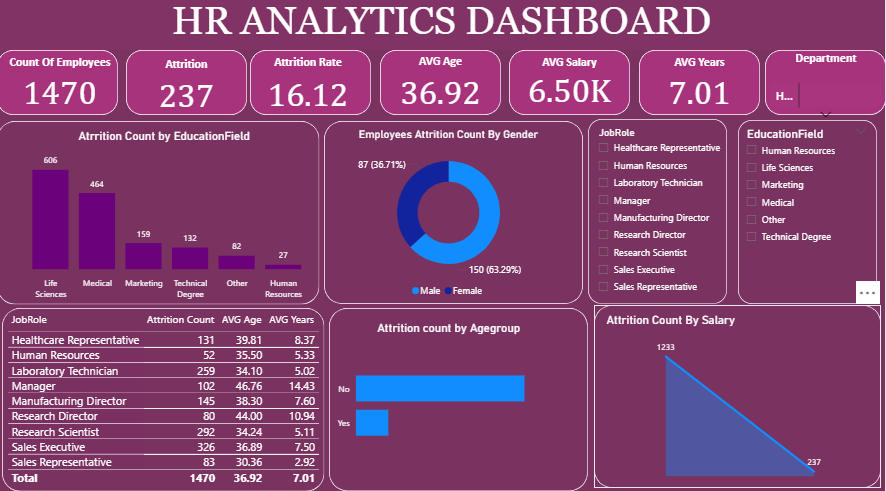

What the dashboard file says about the page in this screenshot:
{"tool":"powerbi","page":{"name":"Page 1","canvas":[1280,720],"ordinal":0},"visuals":[{"type":"textbox","box":[0,0,1280.2,79.2],"z":0},{"type":"shape","box":[0,79.2,174.2,93.6],"z":1000},{"type":"card","title":"Count Of Employees","fields":{"Values":["CountNonNull(HR-Employee-Attrition.EmployeeCount)"]},"box":[10.1,85,161.3,82.1],"z":2000},{"type":"shape","box":[185.8,79.2,174.2,93.6],"z":3000},{"type":"shape","box":[364.3,79.2,174.2,93.6],"z":4000},{"type":"shape","box":[551.5,79.2,174.2,93.6],"z":5000},{"type":"shape","box":[737.3,79.2,174.2,93.6],"z":6000},{"type":"shape","box":[924.5,79.2,174.2,93.6],"z":7000},{"type":"shape","box":[1105.9,79.2,174.2,93.6],"z":8000},{"type":"card","title":"Attrition Rate","fields":{"Values":["HR-Employee-Attrition.Attrition Rate"]},"box":[360,85,175.7,87.8],"z":9000},{"type":"card","title":"Attrition","fields":{"Values":["HR-Employee-Attrition.Attritionn"]},"box":[185.8,87.8,174.2,85],"z":10000},{"type":"card","title":"AVG Age","fields":{"Values":["Avg(HR-Employee-Attrition.Age)"]},"box":[557.3,83.5,162.7,85],"z":11000},{"type":"card","title":"AVG Salary","fields":{"Values":["Avg(HR-Employee-Attrition.MonthlyIncome)"]},"box":[737.3,85,174.2,74.9],"z":12000},{"type":"card","title":"AVG Years","fields":{"Values":["Avg(HR-Employee-Attrition.YearsAtCompany)"]},"box":[933.1,85,157,82.1],"z":13000},{"type":"cardVisual","title":"Department","fields":{"Rows":["HR-Employee-Attrition.Department"]},"box":[1107.4,79.2,172.8,108],"z":14000},{"type":"columnChart","title":"Atrrition Count by EducationField","fields":{"Category":["HR-Employee-Attrition.EducationField"],"Y":["CountNonNull(HR-Employee-Attrition.Education)"]},"box":[10,192.9,461.4,252.9],"z":15000},{"type":"shape","box":[0,181.4,464.3,264.3],"z":16000},{"type":"shape","box":[470.9,181.4,373,263.5],"z":17000},{"type":"shape","box":[7.1,451.4,464.3,264.3],"z":18000},{"type":"donutChart","title":"Employees Attrition Count By Gender","fields":{"Y":["HR-Employee-Attrition.Attritionn"],"Category":["HR-Employee-Attrition.Gender"]},"box":[464.3,191.4,372.9,252.9],"z":19000},{"type":"tableEx","fields":{"Values":["HR-Employee-Attrition.JobRole","Sum(HR-Employee-Attrition.EmployeeCount)","Avg(HR-Employee-Attrition.Age)","Avg(HR-Employee-Attrition.YearsAtCompany)"]},"box":[10.1,450.7,468,269.3],"z":20000},{"type":"shape","box":[478.8,450,372.7,263.6],"z":21000},{"type":"clusteredBarChart","title":"Attrition count by Agegroup","fields":{"Y":["CountNonNull(HR-Employee-Attrition.Age)"],"Category":["HR-Employee-Attrition.Attrition"]},"box":[483.3,469.7,333.3,216.7],"z":22000},{"type":"shape","box":[851,178.6,200.2,266.4],"z":23000},{"type":"slicer","fields":{"Values":["HR-Employee-Attrition.JobRole"]},"box":[854.5,184.8,197,274.2],"z":24000},{"type":"shape","box":[1067,180,200.2,265],"z":25000},{"type":"slicer","fields":{"Values":["HR-Employee-Attrition.EducationField"]},"box":[1066.7,184.8,197,251.5],"z":26000},{"type":"shape","box":[859.7,446.4,413.3,263.5],"z":26001},{"type":"lineChart","title":"Attrition Count By Salary","fields":{"Y":["CountNonNull(HR-Employee-Attrition.PercentSalaryHike)"],"Category":["HR-Employee-Attrition.Attrition"]},"box":[872.6,457.9,394.6,240.5],"z":26002}]}

Visuals, with their boxes in screenshot pixels (x1, y1, x2, y2), scaled from the page's 1280x720 canvas onto the 886x491 screenshot:
textbox: 0/0/885/54
shape: 0/54/121/118
"Count Of Employees" card: 7/58/119/114
shape: 129/54/249/118
shape: 252/54/373/118
shape: 382/54/502/118
shape: 510/54/631/118
shape: 640/54/761/118
shape: 765/54/885/118
"Attrition Rate" card: 249/58/371/118
"Attrition" card: 129/60/249/118
"AVG Age" card: 386/57/498/115
"AVG Salary" card: 510/58/631/109
"AVG Years" card: 646/58/755/114
"Department" cardVisual: 767/54/885/128
"Atrrition Count by EducationField" columnChart: 7/132/326/304
shape: 0/124/321/304
shape: 326/124/584/303
shape: 5/308/326/488
"Employees Attrition Count By Gender" donutChart: 321/131/579/303
tableEx - HR-Employee-Attrition.JobRole x Sum(HR-Employee-Attrition.EmployeeCount): 7/307/331/490
shape: 331/307/589/487
"Attrition count by Agegroup" clusteredBarChart: 335/320/565/468
shape: 589/122/728/303
slicer - HR-Employee-Attrition.JobRole: 591/126/728/313
shape: 739/123/877/303
slicer - HR-Employee-Attrition.EducationField: 738/126/875/298
shape: 595/304/881/484
"Attrition Count By Salary" lineChart: 604/312/877/476
